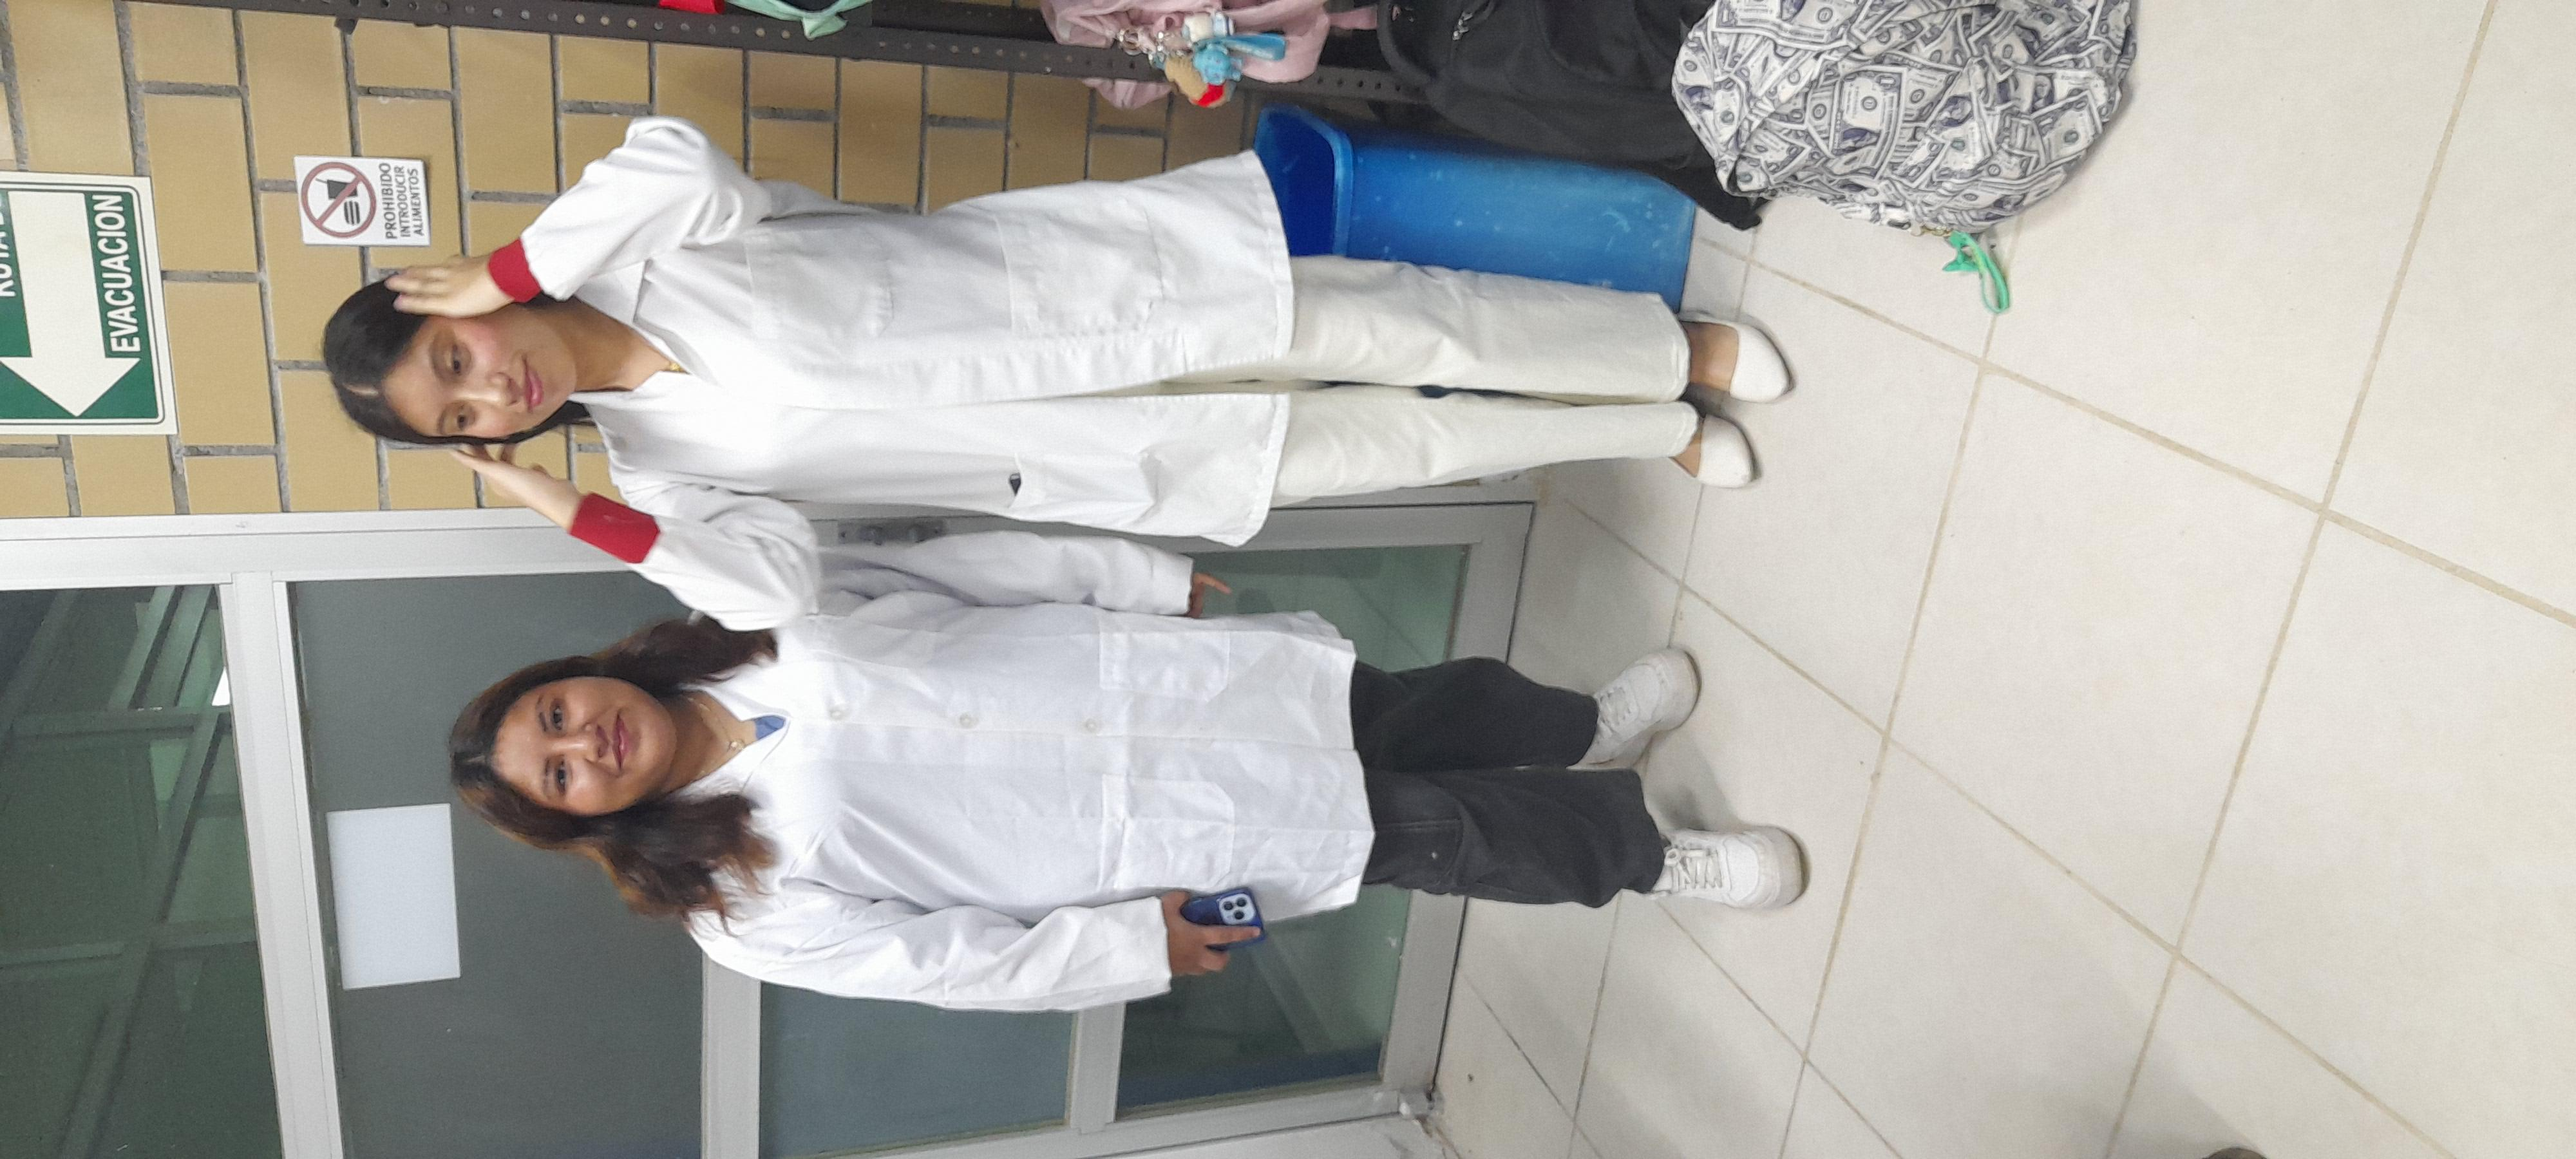Bata-Correcta: (1180, 146, 2315, 806), (330, 204, 1390, 811)
